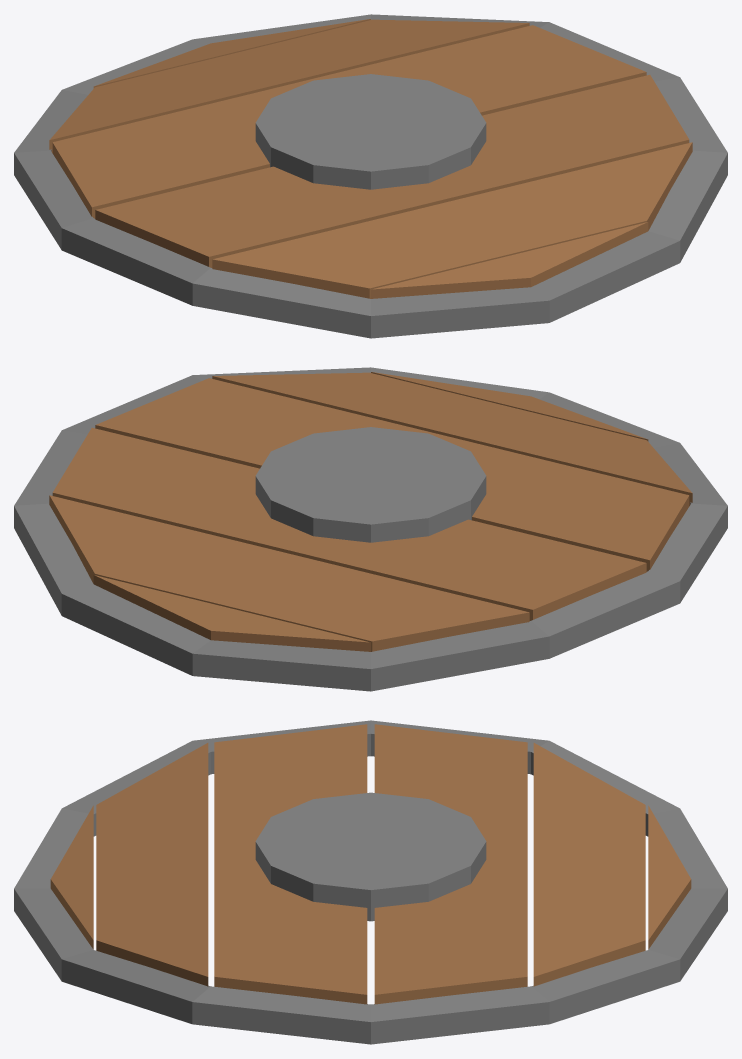
File: Shield.fbx
The picture shows the model from 3 angles, top to bottom: view 1: azimuth 30°, elevation 25°; view 2: azimuth 150°, elevation 25°; view 3: azimuth 270°, elevation 25°; orthographic projection.
Visible parts, largest first — view 1: Shield.001; view 2: Shield.001; view 3: Shield.001.
Boxes of the visible parts, left/top/right/bottom form: Shield.001: left=14, top=14, right=727, bottom=338; Shield.001: left=14, top=367, right=727, bottom=691; Shield.001: left=14, top=720, right=727, bottom=1044.
Bounding box in the file's own units: 92.93 × 9.99 × 92.93.
